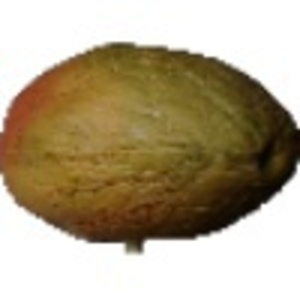mamão: (2, 38, 297, 243)
